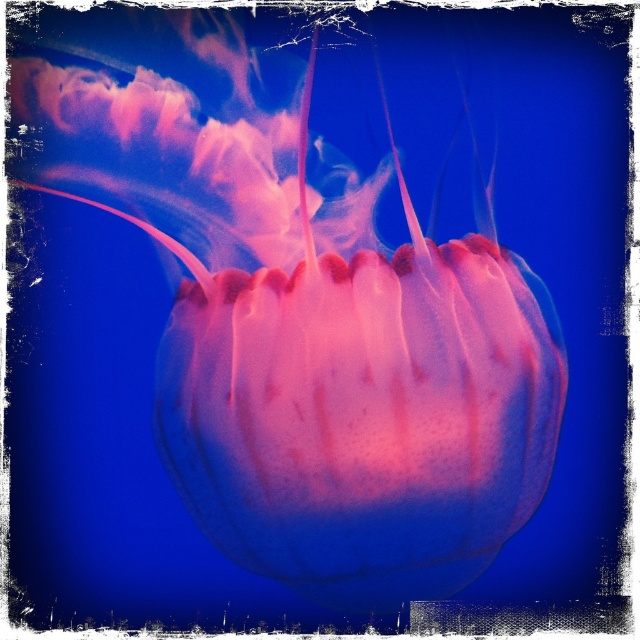Jellyfish: (2, 6, 574, 638)
